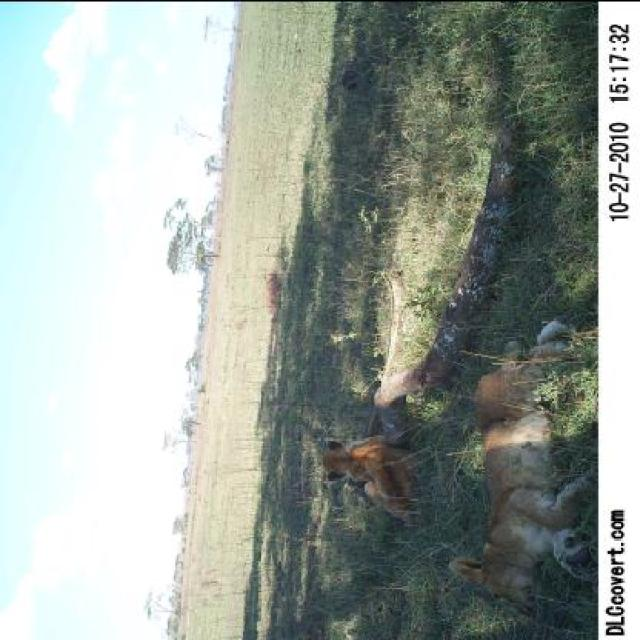Lion: (440, 314, 594, 624), (311, 418, 437, 530)
